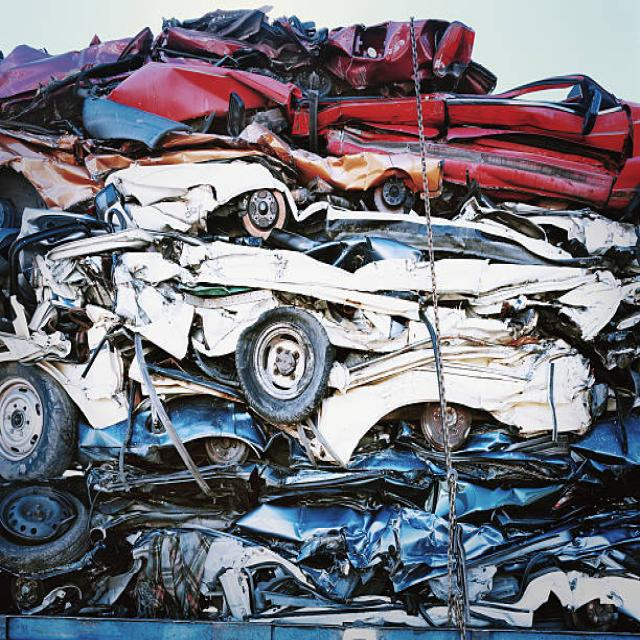metal: (59, 82, 608, 598)
